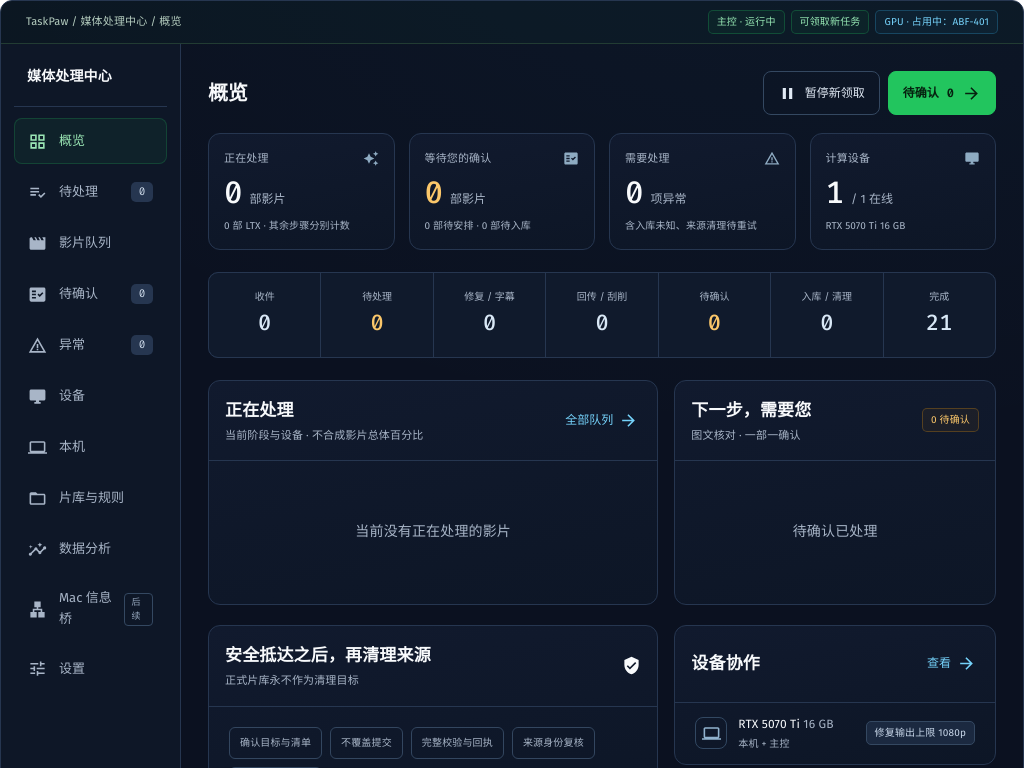
#302 finished history › keeps the completed page after a failed next-page request and allows retry
The width and height of the screenshot is (1024, 768).
Click the button "完成 21": click(939, 315) [884,273,995,357]
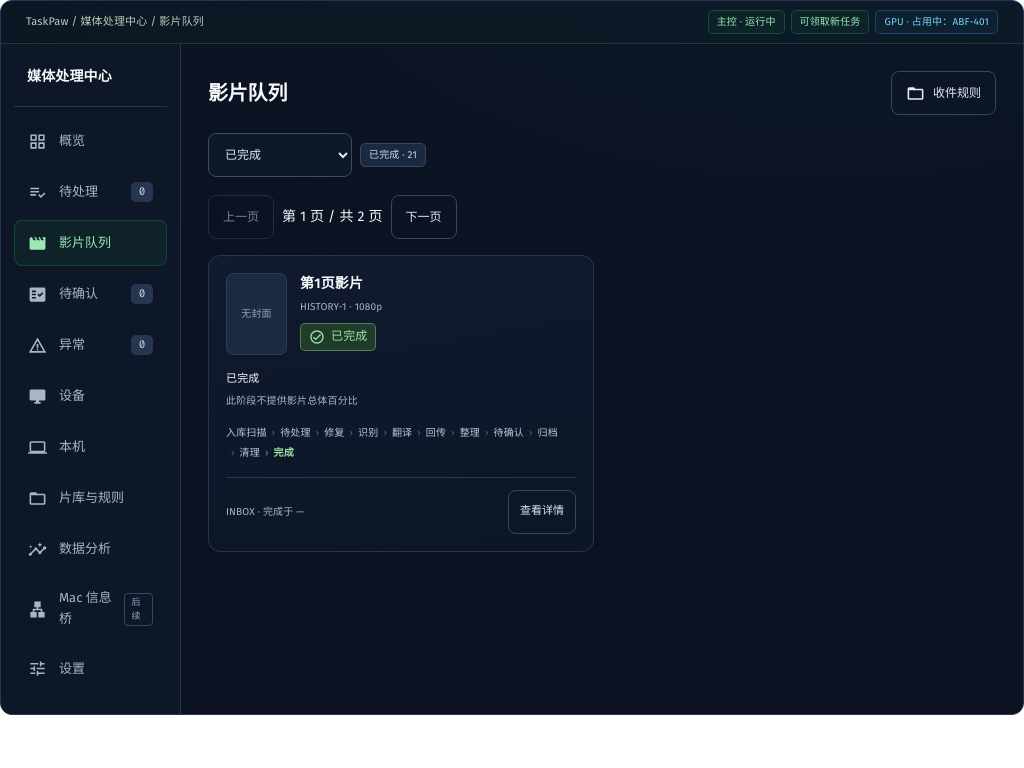
Check: the heading "第1页影片" is shown, box [300,273,363,295]
Click the button "下一页": click(424, 217) [390,195,456,239]
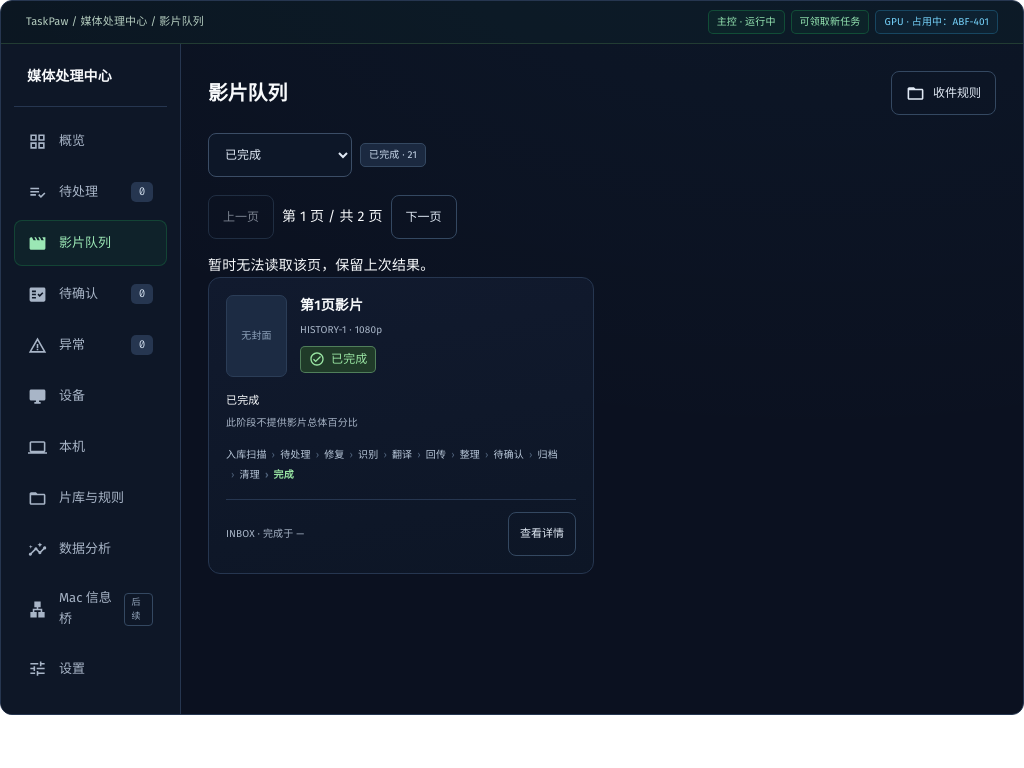
Check: the button "下一页" is enabled
Check: the heading "第1页影片" is shown, box [300,295,363,318]
Click the button "下一页": click(424, 217) [390,195,456,239]
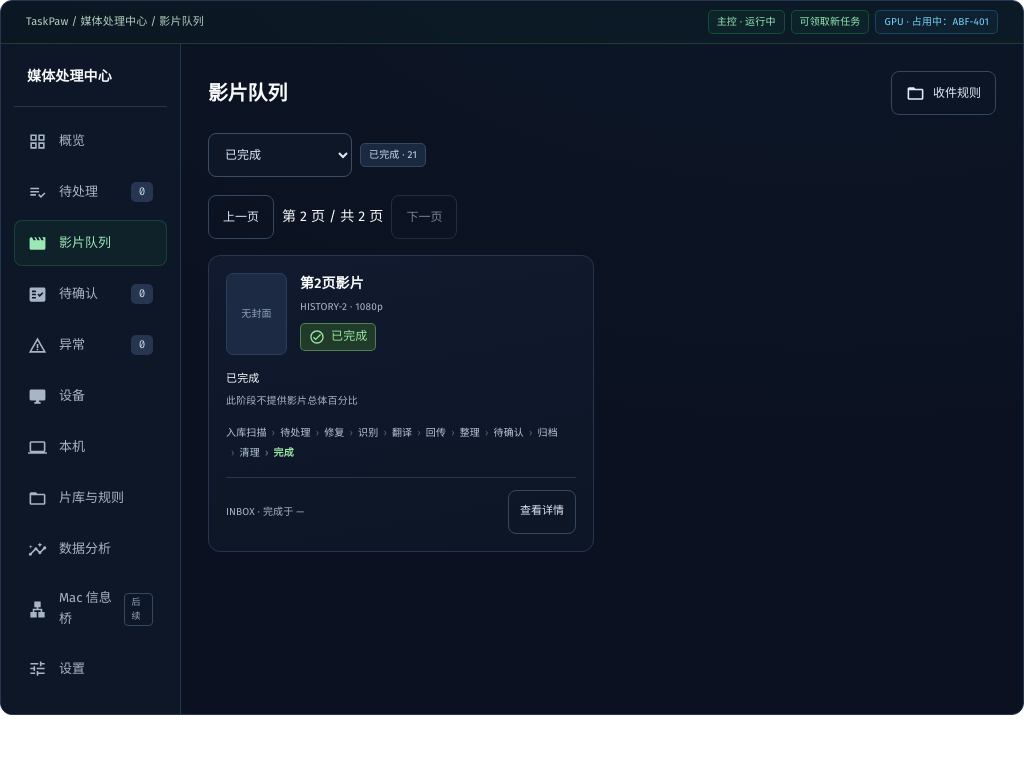
Check: the heading "第2页影片" is shown, box [300,273,364,295]
